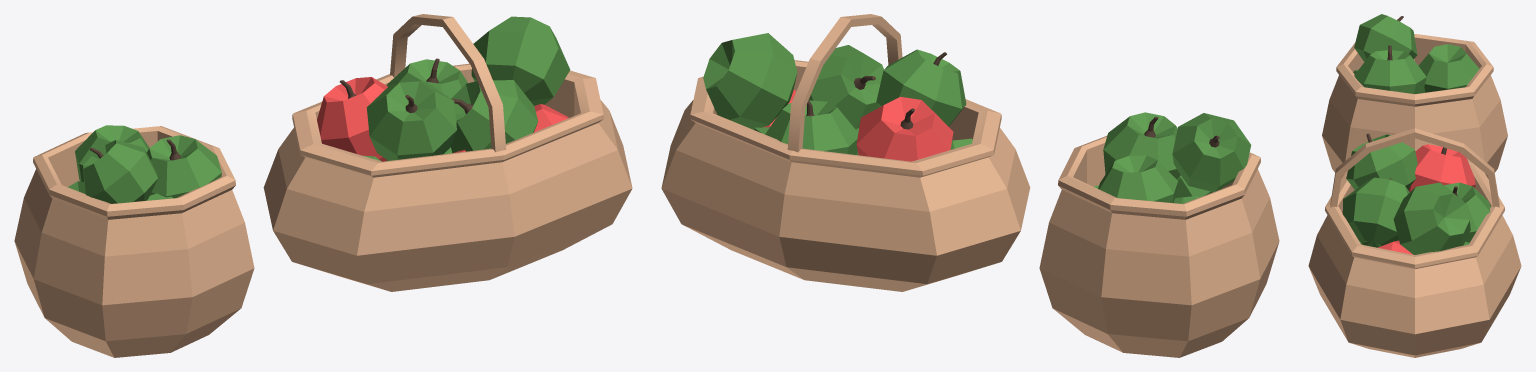
File: Apple_baskets.fbx
3 renders of one model, left to right at view 1: azimuth 30°, elevation 25°; view 2: azimuth 150°, elevation 25°; view 3: azimuth 270°, elevation 25°, orthographic. The views are drawn at different scales.
Visible parts, largest first — view 1: basket_2, basket_1; view 2: basket_2, basket_1; view 3: basket_2, basket_1.
Part boxes in pixels (x1,y1,x2,y2): basket_2: [263, 14, 632, 291]; basket_1: [14, 125, 254, 357]; basket_2: [661, 14, 1030, 291]; basket_1: [1039, 112, 1279, 357]; basket_2: [1308, 128, 1521, 357]; basket_1: [1322, 14, 1507, 178].
Size of the model in its own units: 142 by 55.71 by 53.45.
